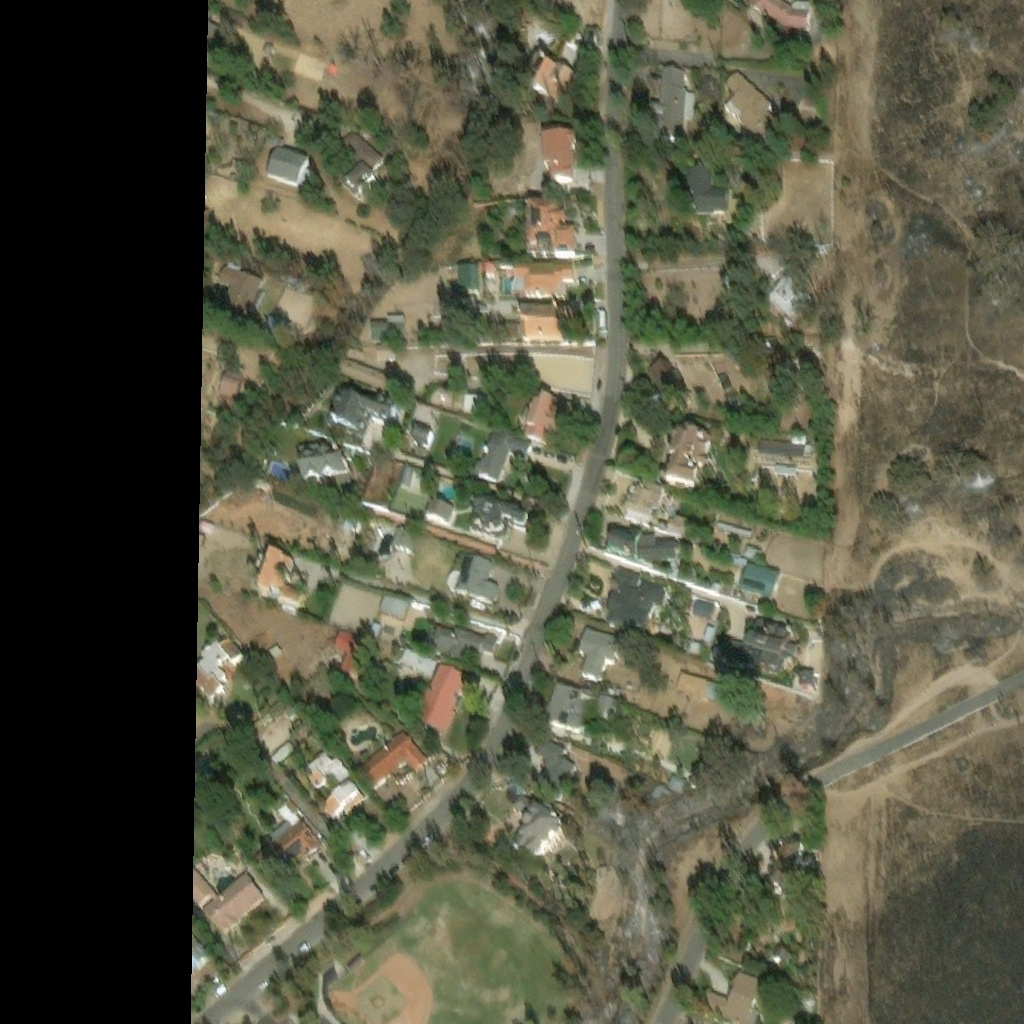0 no-damage: (719, 70, 787, 153), (717, 612, 800, 678), (190, 861, 266, 932), (253, 817, 325, 883), (412, 663, 473, 738), (357, 729, 430, 791), (605, 566, 671, 634), (324, 388, 401, 446), (508, 795, 566, 863), (339, 127, 389, 205), (698, 967, 767, 1023), (647, 69, 697, 142), (661, 423, 717, 488), (254, 548, 309, 614), (746, 333, 804, 393), (466, 492, 536, 541), (214, 261, 267, 325), (604, 523, 679, 568), (472, 430, 534, 483), (522, 57, 579, 114), (763, 267, 818, 326), (524, 199, 578, 259), (431, 625, 500, 667), (524, 389, 577, 442), (577, 627, 625, 684), (540, 683, 592, 735), (535, 737, 577, 801), (453, 553, 501, 606), (506, 304, 575, 340), (686, 166, 730, 219), (649, 357, 692, 410), (265, 144, 314, 190), (330, 625, 372, 677), (619, 476, 666, 522), (196, 635, 244, 679), (320, 780, 370, 821), (512, 263, 574, 296), (748, 0, 813, 31), (297, 441, 350, 479), (542, 131, 577, 182), (673, 667, 725, 701), (307, 751, 352, 790), (771, 837, 804, 890), (338, 356, 390, 388), (737, 559, 780, 597), (385, 526, 418, 569), (215, 370, 246, 411), (194, 659, 224, 700), (758, 432, 811, 455), (370, 313, 408, 343), (399, 649, 437, 677), (591, 696, 624, 728), (205, 18, 231, 54), (378, 592, 410, 620), (189, 930, 210, 972), (425, 499, 455, 524), (457, 264, 481, 295), (264, 317, 294, 340), (714, 516, 752, 534), (461, 394, 495, 414), (692, 594, 717, 618), (666, 770, 689, 793), (664, 512, 687, 533), (651, 783, 673, 802), (413, 427, 435, 446), (773, 943, 792, 964), (741, 541, 763, 559), (773, 459, 798, 474), (799, 671, 815, 689), (702, 624, 718, 642), (686, 639, 703, 655), (202, 205, 211, 226), (485, 264, 496, 277)
